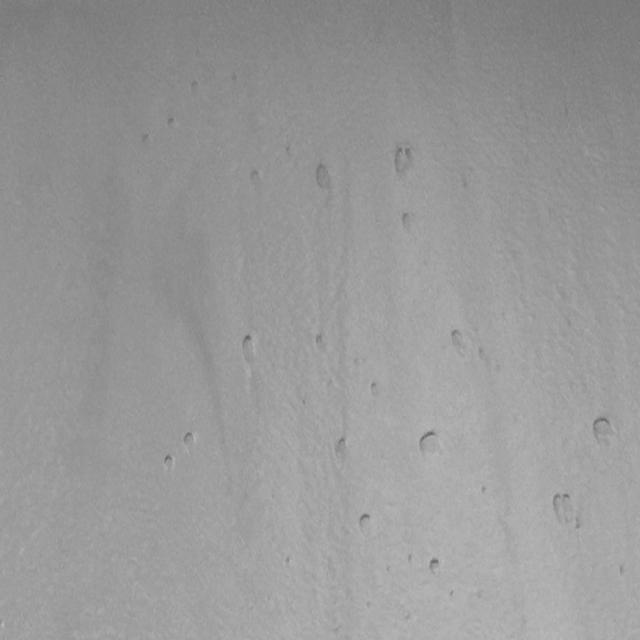pin holes: (445, 325, 476, 364), (548, 489, 578, 528), (591, 416, 619, 450), (390, 146, 418, 180), (418, 428, 446, 459), (238, 332, 261, 368), (311, 162, 334, 193), (245, 167, 264, 196), (397, 210, 418, 236), (357, 512, 379, 536), (332, 434, 352, 460), (179, 428, 198, 452), (160, 453, 178, 477), (314, 330, 331, 353), (428, 556, 445, 578), (164, 114, 180, 134), (138, 131, 154, 151), (368, 378, 382, 397), (189, 79, 202, 96), (484, 354, 492, 374), (408, 552, 413, 569), (284, 556, 292, 566), (386, 564, 392, 575), (482, 485, 488, 494), (480, 346, 484, 359), (450, 588, 455, 596)
